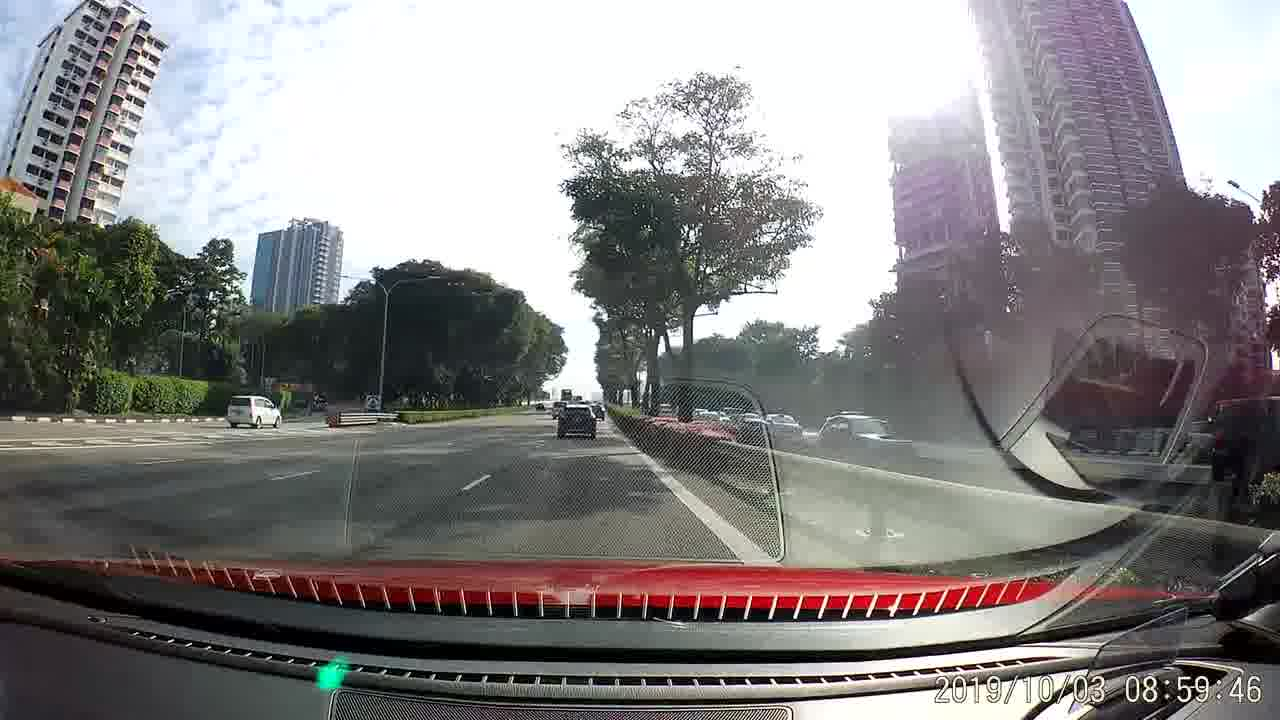car: (817, 411, 919, 453), (224, 394, 286, 429), (554, 400, 599, 441), (761, 410, 805, 436), (588, 404, 606, 422), (535, 402, 547, 412)
